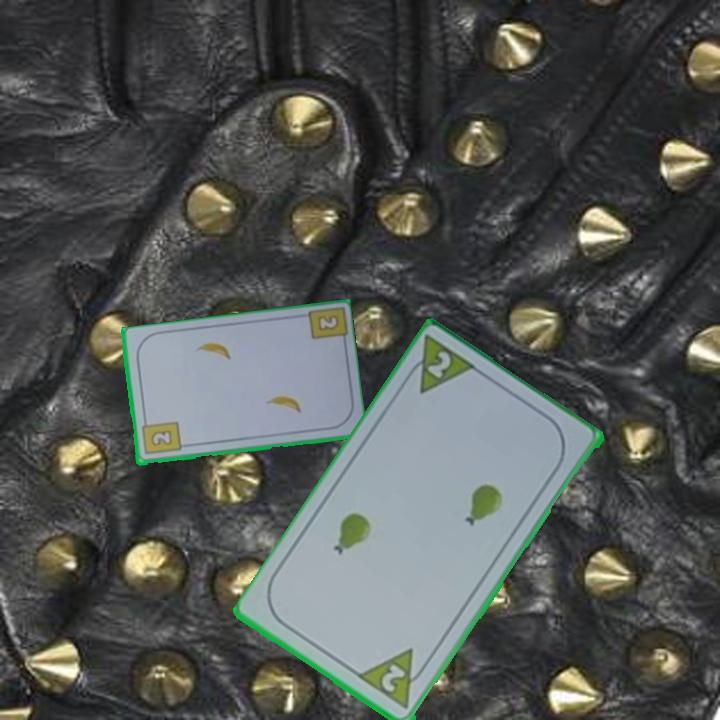2b: (138, 416, 183, 458), (314, 310, 342, 334)
2p: (356, 645, 433, 713), (423, 347, 455, 382)
